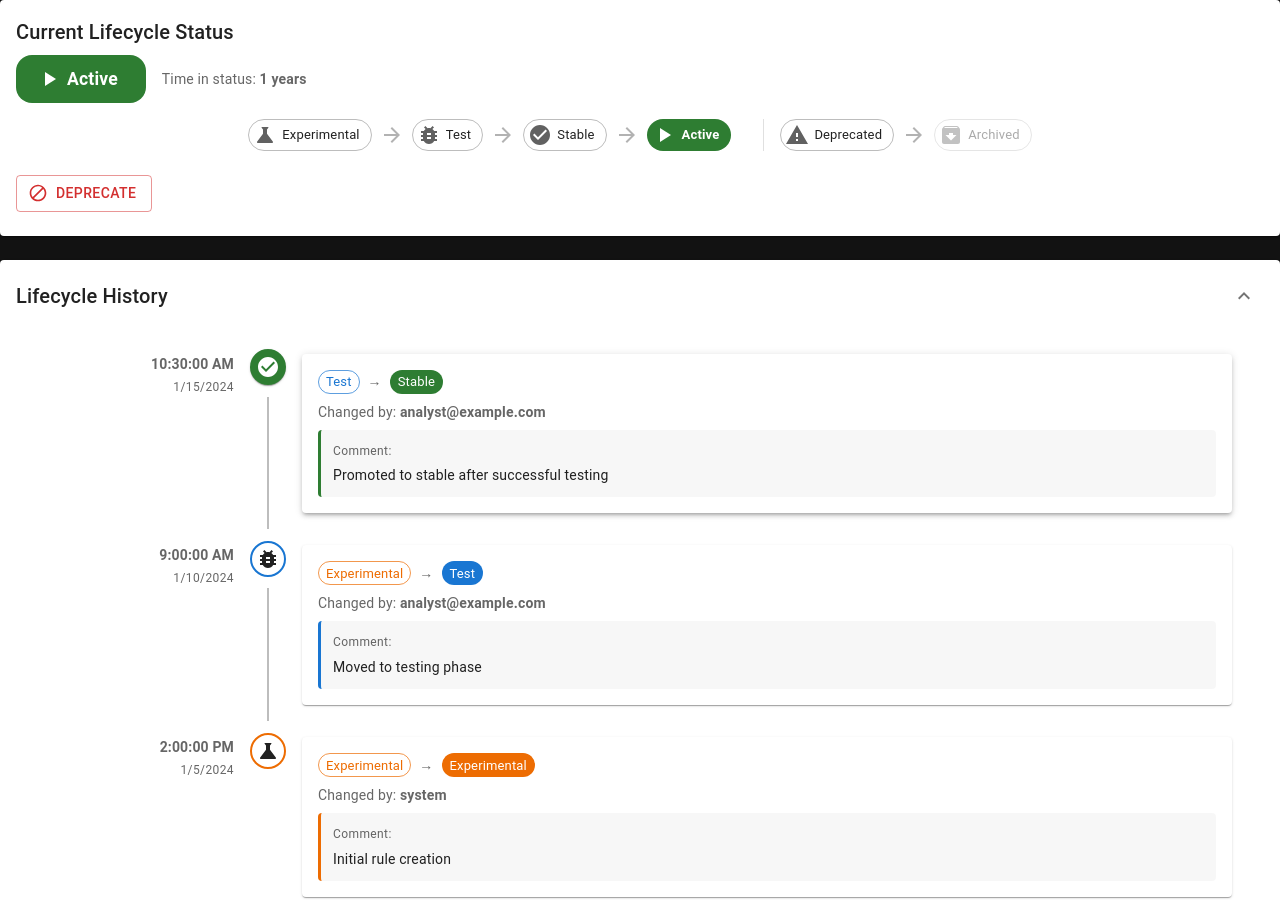
RuleLifecyclePanel › Deprecation Dialog › closes dialog on cancel
Click the button with aria-label "deprecate rule". click: [84, 193]
box: [16, 175, 152, 212]
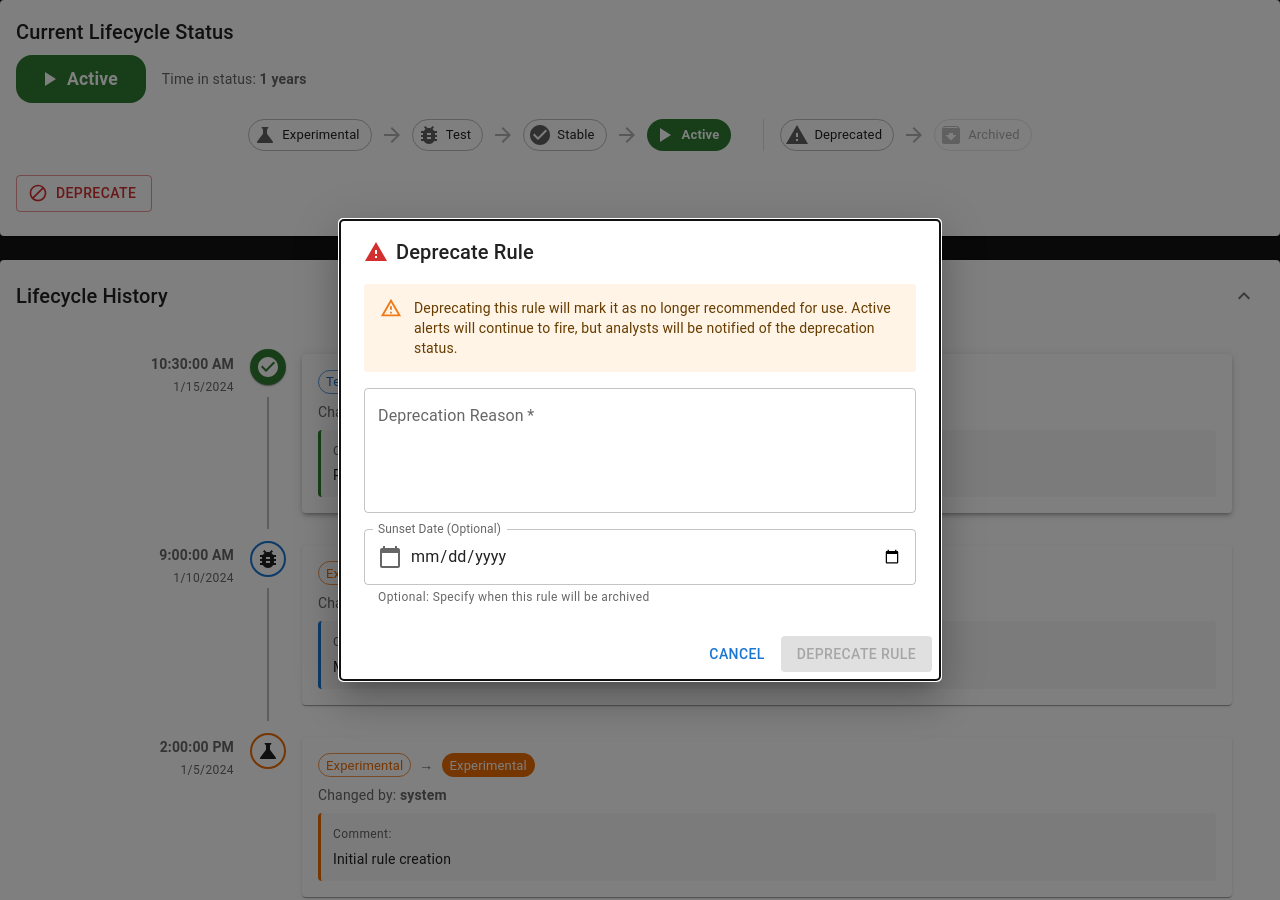
Click the button "Cancel". click: [737, 654]
box: [701, 636, 773, 672]
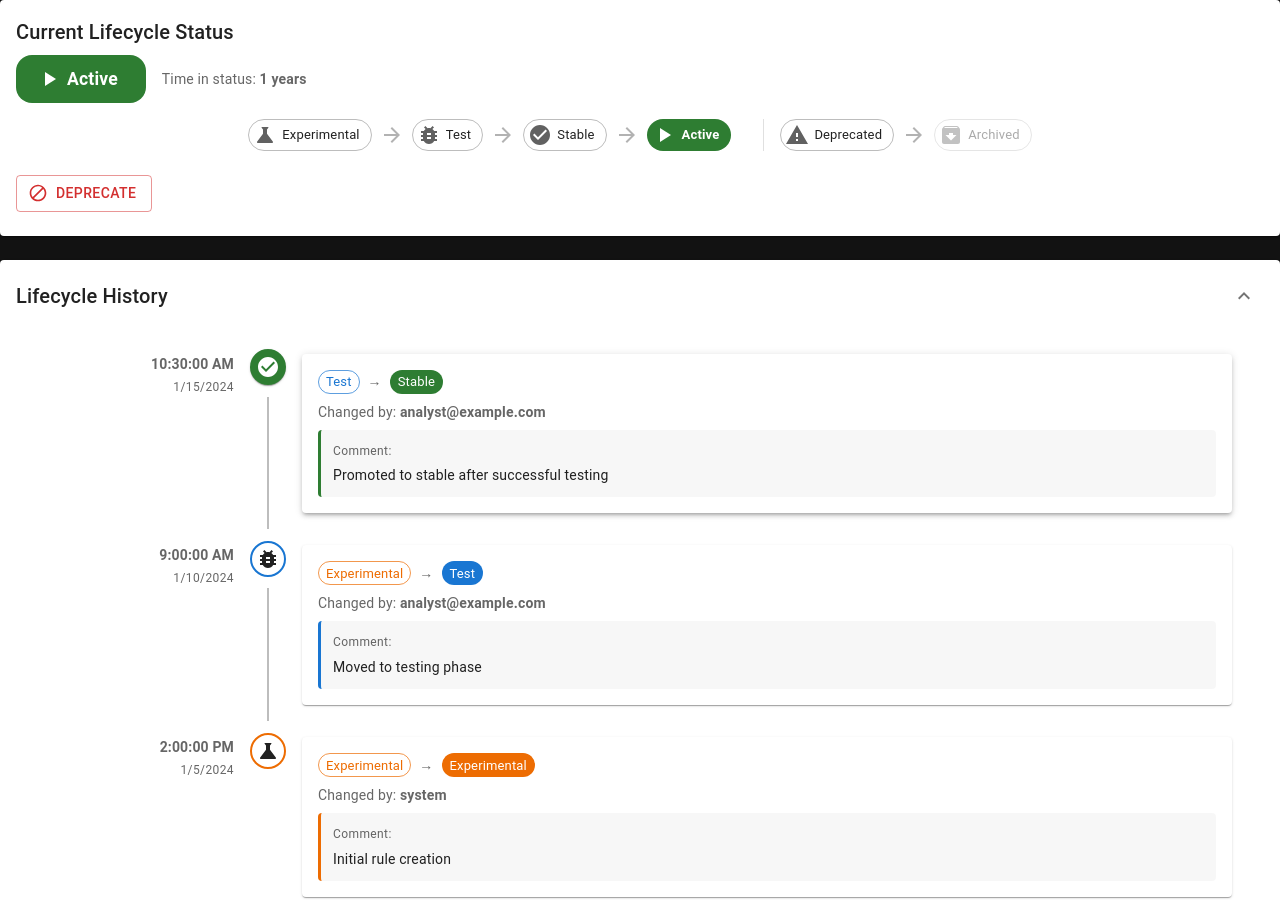
Check: the dialog is gone
